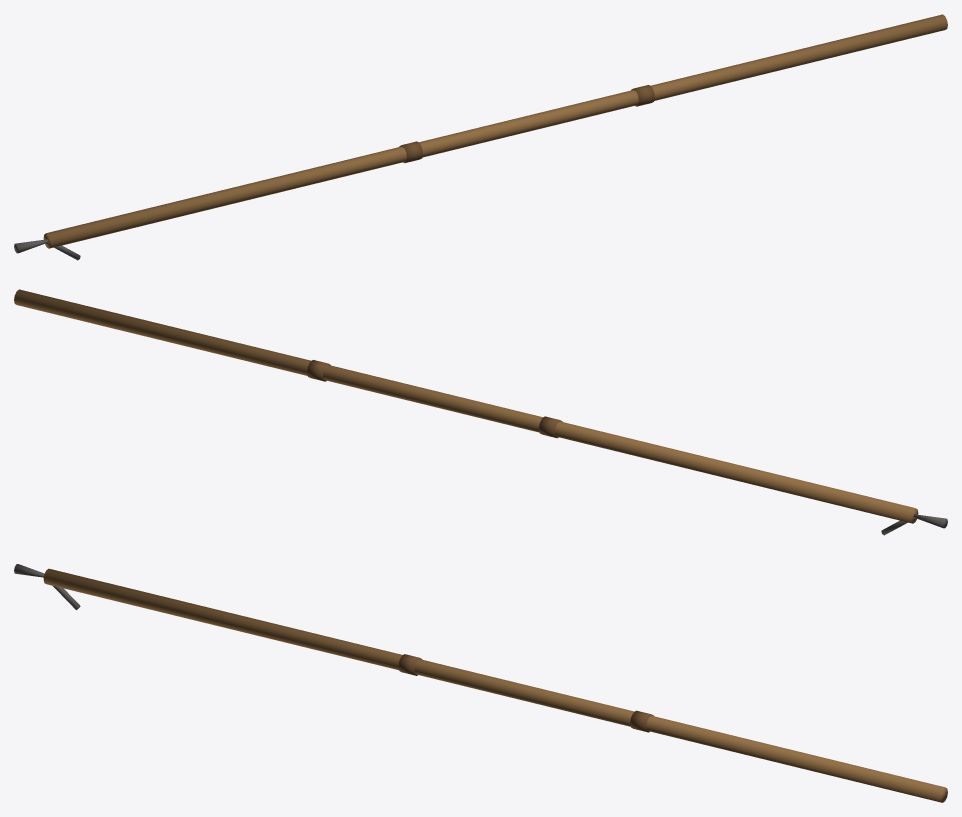
Rendered from staken.glb.
The picture shows the model from 3 angles, top to bottom: view 1: azimuth 30°, elevation 25°; view 2: azimuth 150°, elevation 25°; view 3: azimuth 330°, elevation 25°; orthographic projection.
Parts seen in each view (by area): view 1: Cone; view 2: Cone; view 3: Cone.
Boxes of the visible parts, x1,y1,x2,y2 form: Cone: [14, 14, 947, 260]; Cone: [14, 289, 947, 535]; Cone: [14, 564, 947, 802].
Size of the model in its own units: 2.4 by 0.0848 by 0.042.
